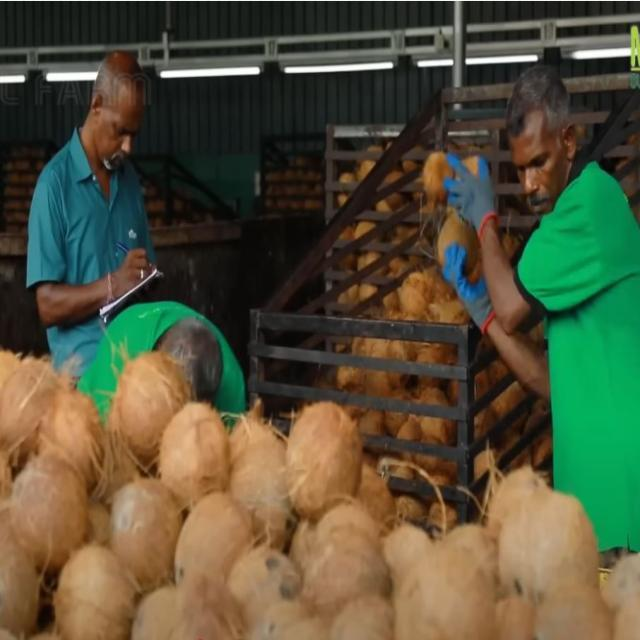bare_hand: (105, 247, 160, 295)
gloved_hand: (440, 143, 503, 238), (439, 242, 499, 333)
